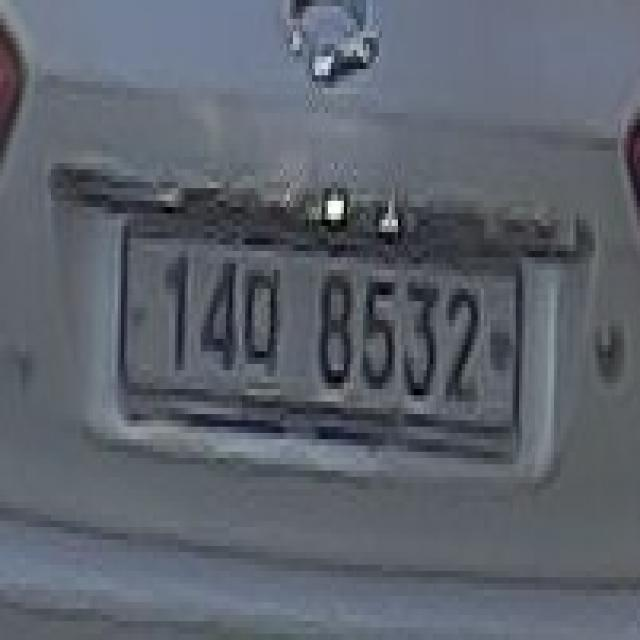1: (156, 238, 194, 389)
2: (443, 270, 487, 433)
3: (398, 276, 443, 420)
4: (197, 251, 242, 389)
5: (357, 276, 398, 402)
8: (315, 264, 357, 402)
da: (242, 251, 290, 383)
license_plate: (109, 213, 542, 483)
